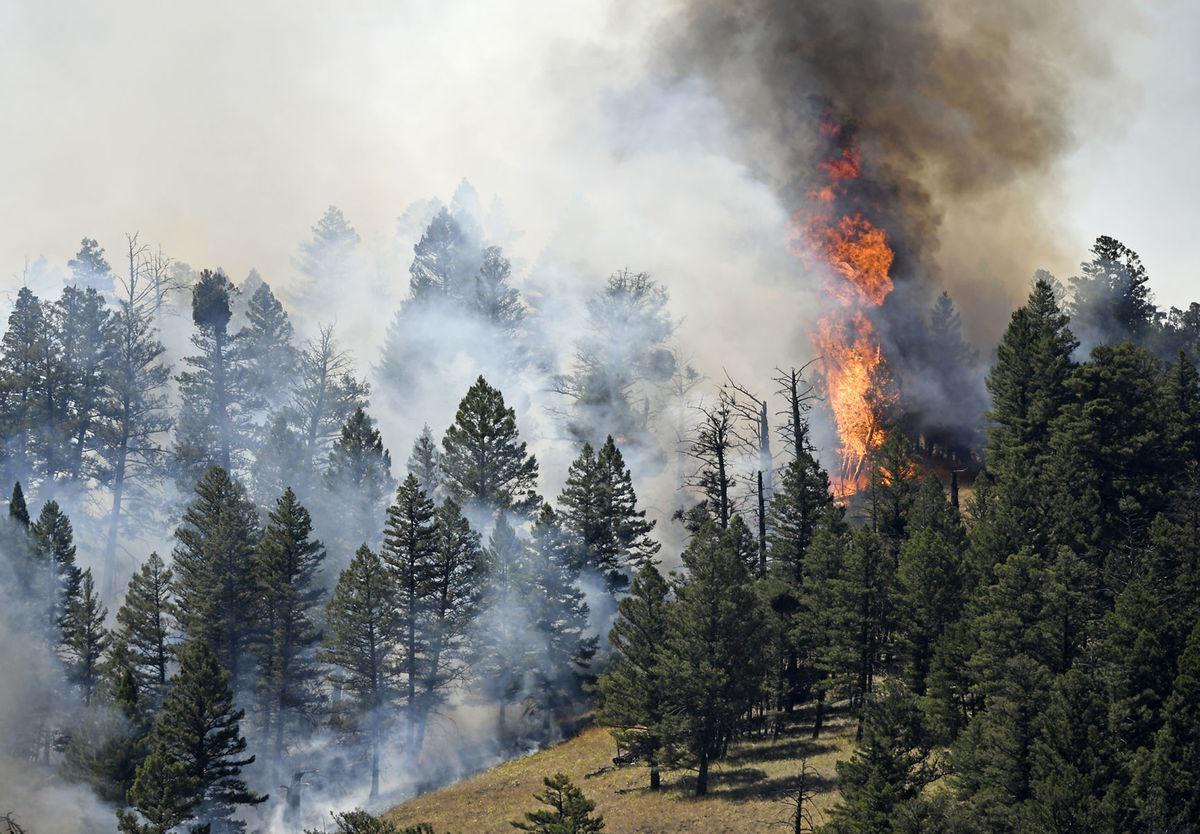Fire: (753, 137, 917, 517)
